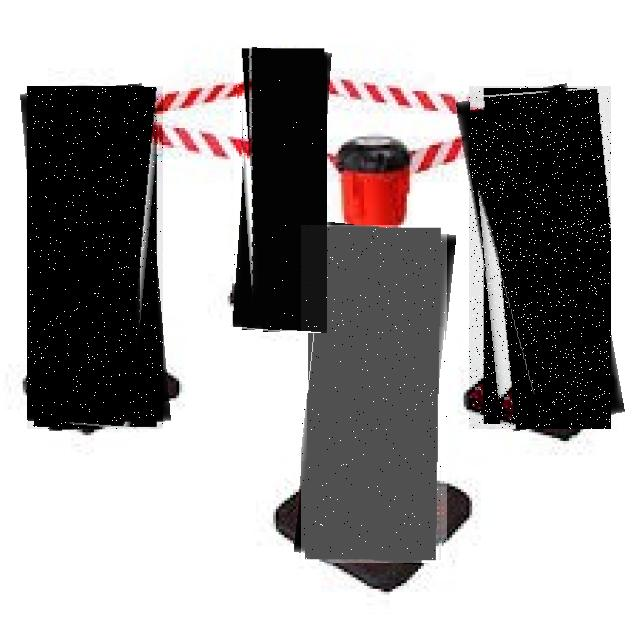Traffic-cone: (301, 225, 447, 563), (469, 86, 611, 429), (27, 86, 163, 429), (234, 49, 327, 333)
